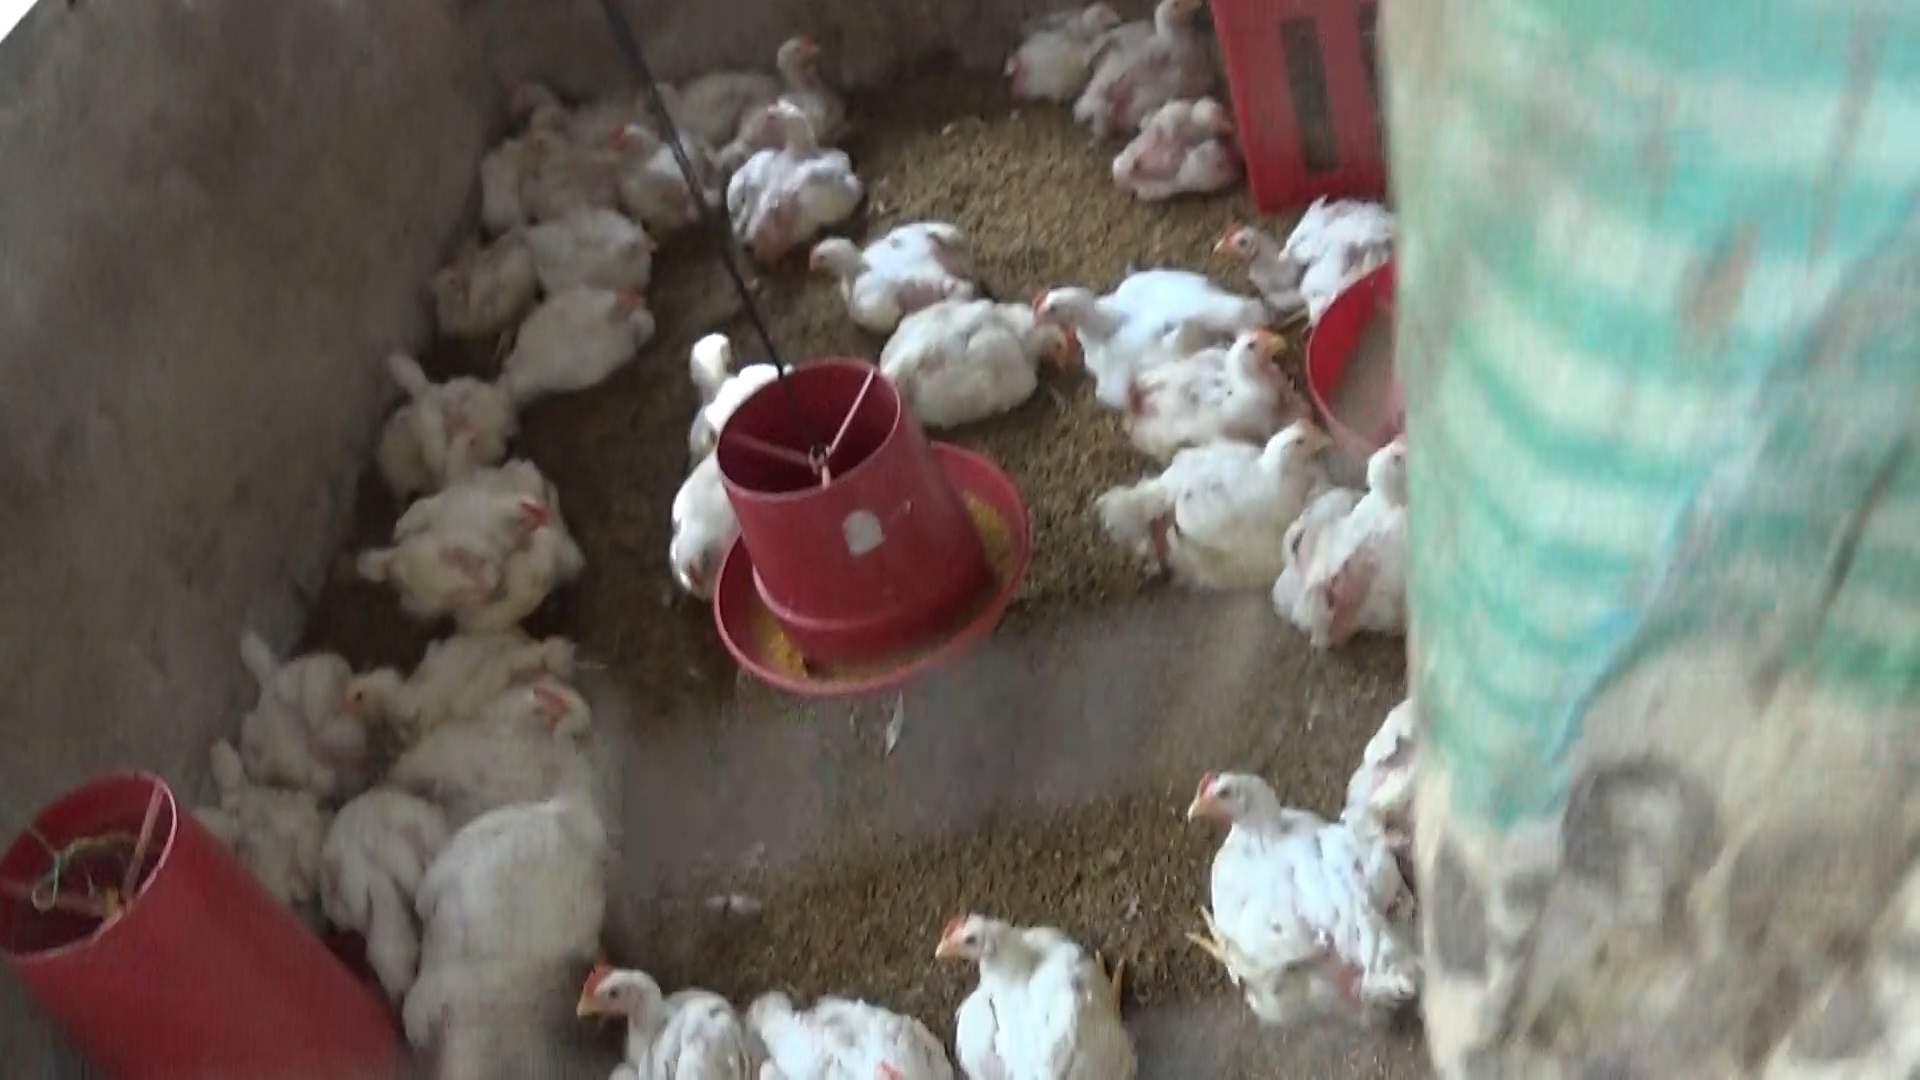Pollos: (1178, 748, 1425, 1021), (407, 785, 615, 1013), (1095, 425, 1331, 588), (924, 898, 1130, 1073), (1262, 431, 1411, 655), (1026, 266, 1262, 397), (353, 483, 576, 620), (707, 96, 890, 262), (305, 778, 444, 971), (862, 282, 1060, 413), (316, 628, 564, 728), (392, 684, 596, 803), (353, 340, 524, 476), (795, 223, 992, 334), (566, 957, 742, 1080), (1077, 0, 1234, 137), (1133, 324, 1307, 447), (1215, 187, 1395, 305), (725, 984, 951, 1077), (237, 615, 363, 773), (185, 735, 309, 889), (495, 287, 653, 402), (727, 18, 852, 156), (662, 444, 748, 620), (1006, 0, 1142, 105), (1110, 87, 1241, 196), (666, 332, 796, 440), (603, 117, 716, 229), (479, 105, 584, 214), (506, 135, 630, 225), (524, 208, 658, 289), (421, 232, 543, 319), (510, 78, 653, 150), (431, 413, 547, 496)
